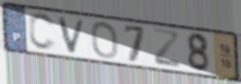7: (123, 24, 148, 64)
8: (187, 32, 211, 74)
C: (28, 11, 58, 52)
O: (90, 20, 120, 60)
V: (57, 16, 88, 55)
Z: (151, 27, 182, 70)
